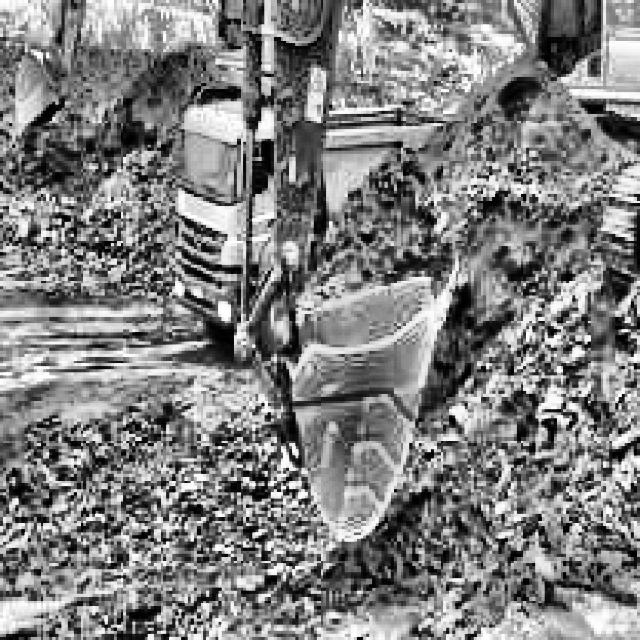dump_truck: (172, 94, 452, 331)
excavator: (231, 0, 640, 551), (332, 0, 639, 178), (16, 0, 384, 126)
